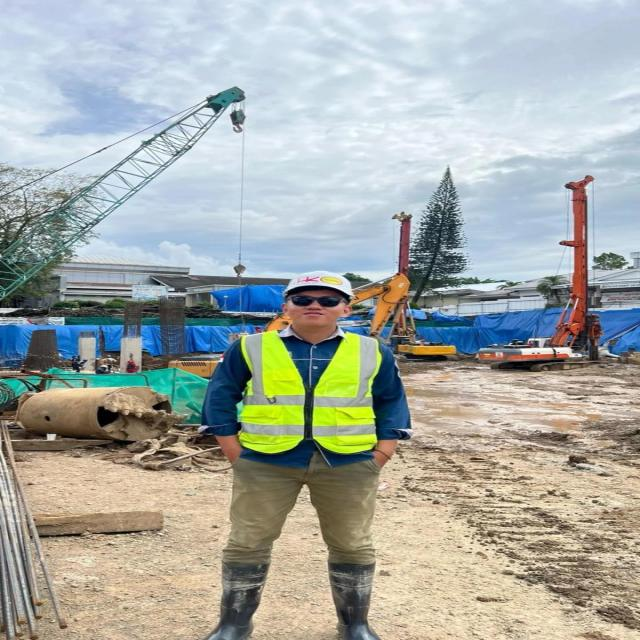safetyhelmet: (267, 260, 369, 337)
